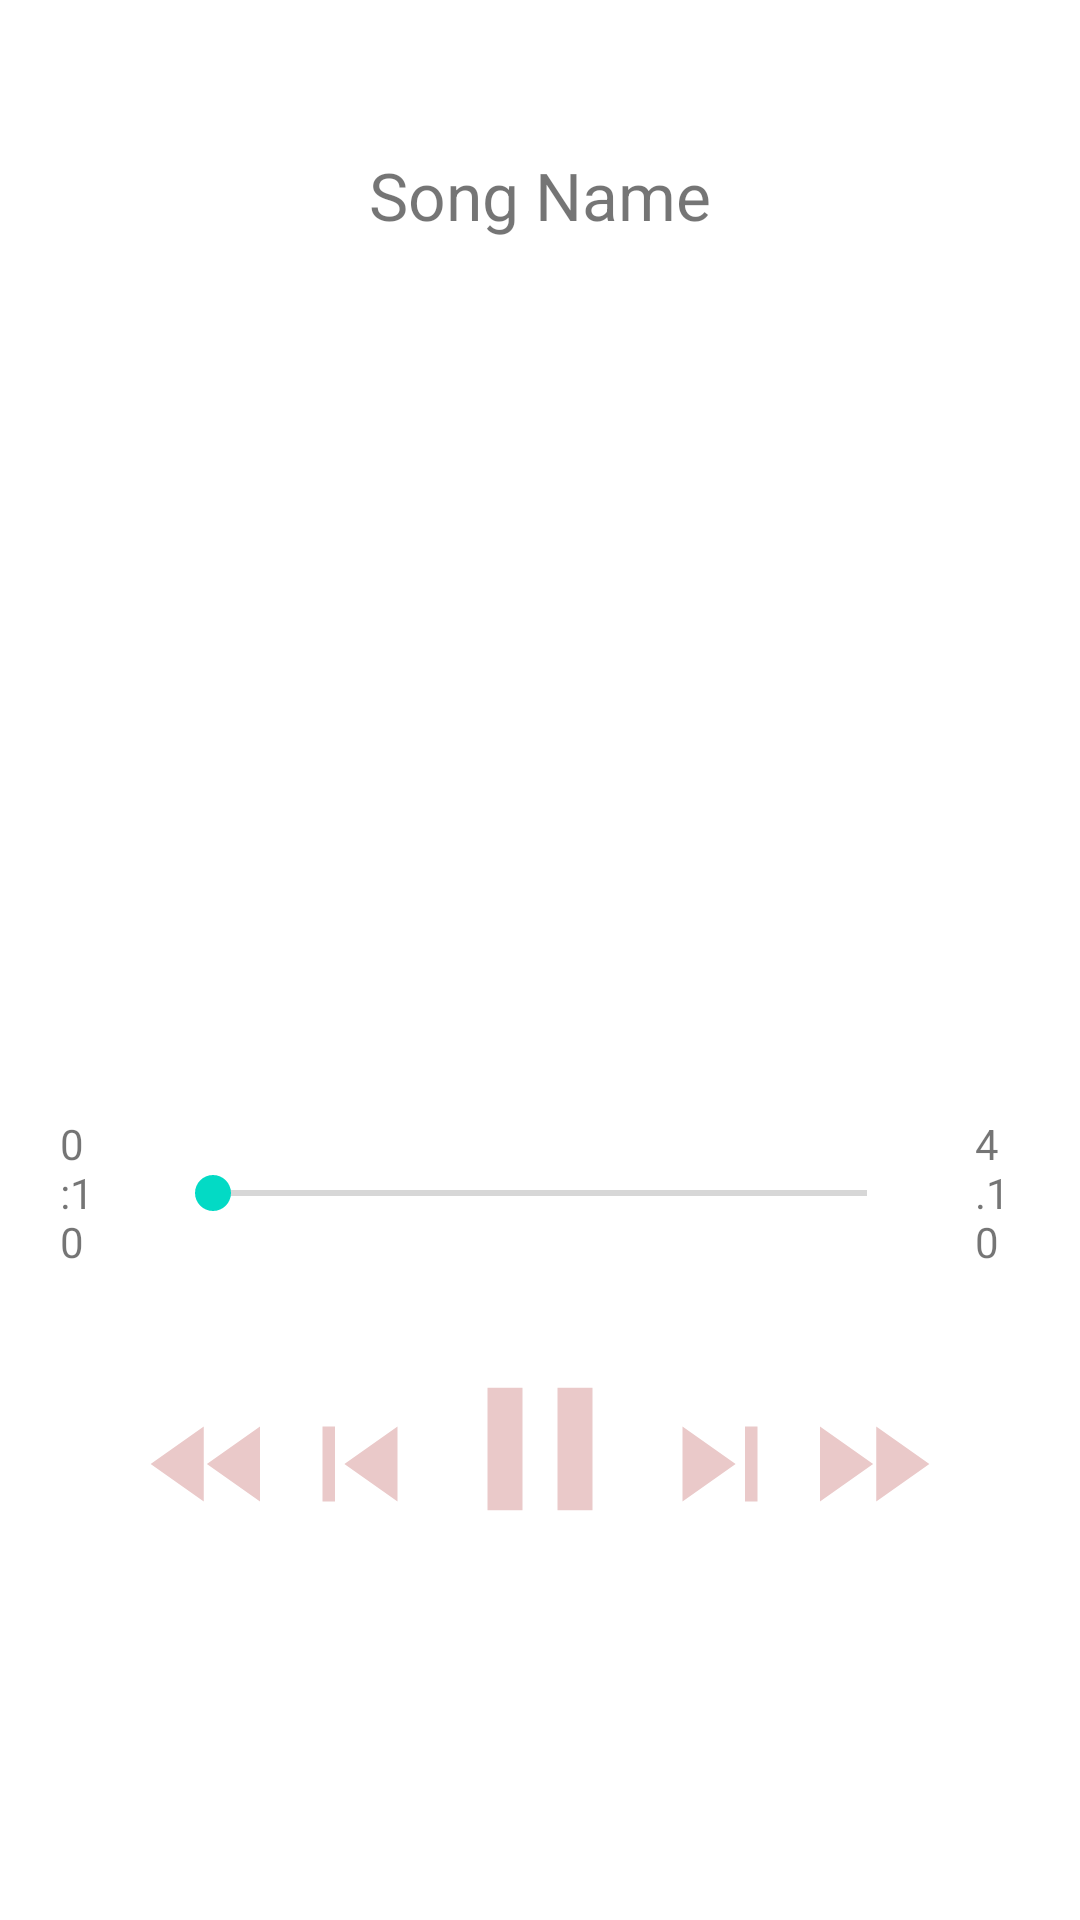

Point at icon controls on the screen. Image size 1080 × 1920, points as (x,y).
fastforward: (874,1464)
pause: (540,1449)
rewind: (205,1464)
skipnext: (720,1464)
skipprevious: (360,1464)
